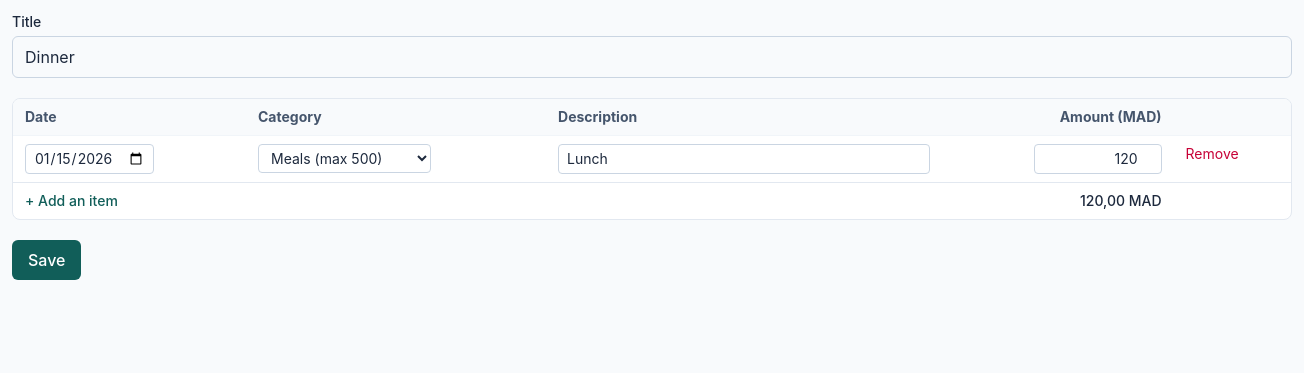
Scenario: ClaimForm › shows the field errors returned by the API next to the inputs
Click the button "Save".
click(47, 260)  # box [12,240,82,280]
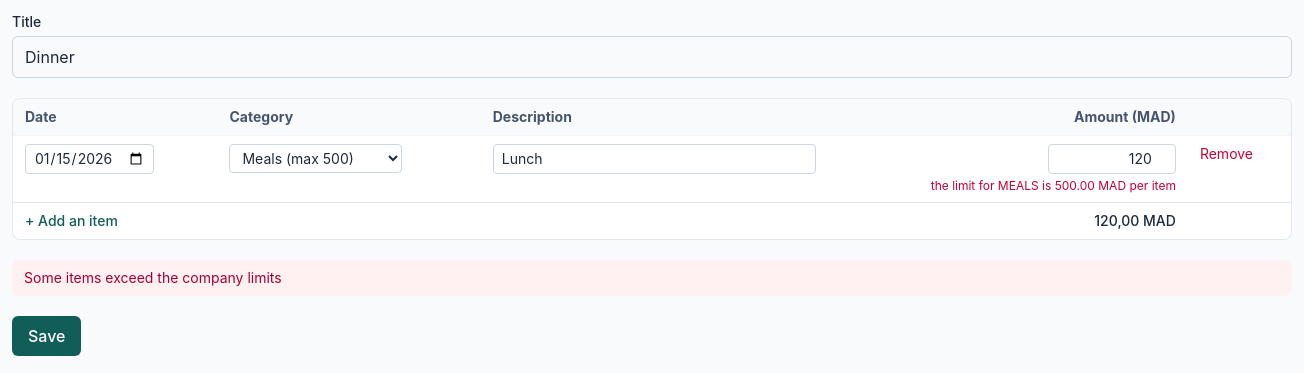
expect the message reads "Some items exceed the company limits": met, box [24,269,282,286]
expect the text "the limit for MEALS is 500.00 MAD per item" is shown: met, box [931,178,1176,193]
